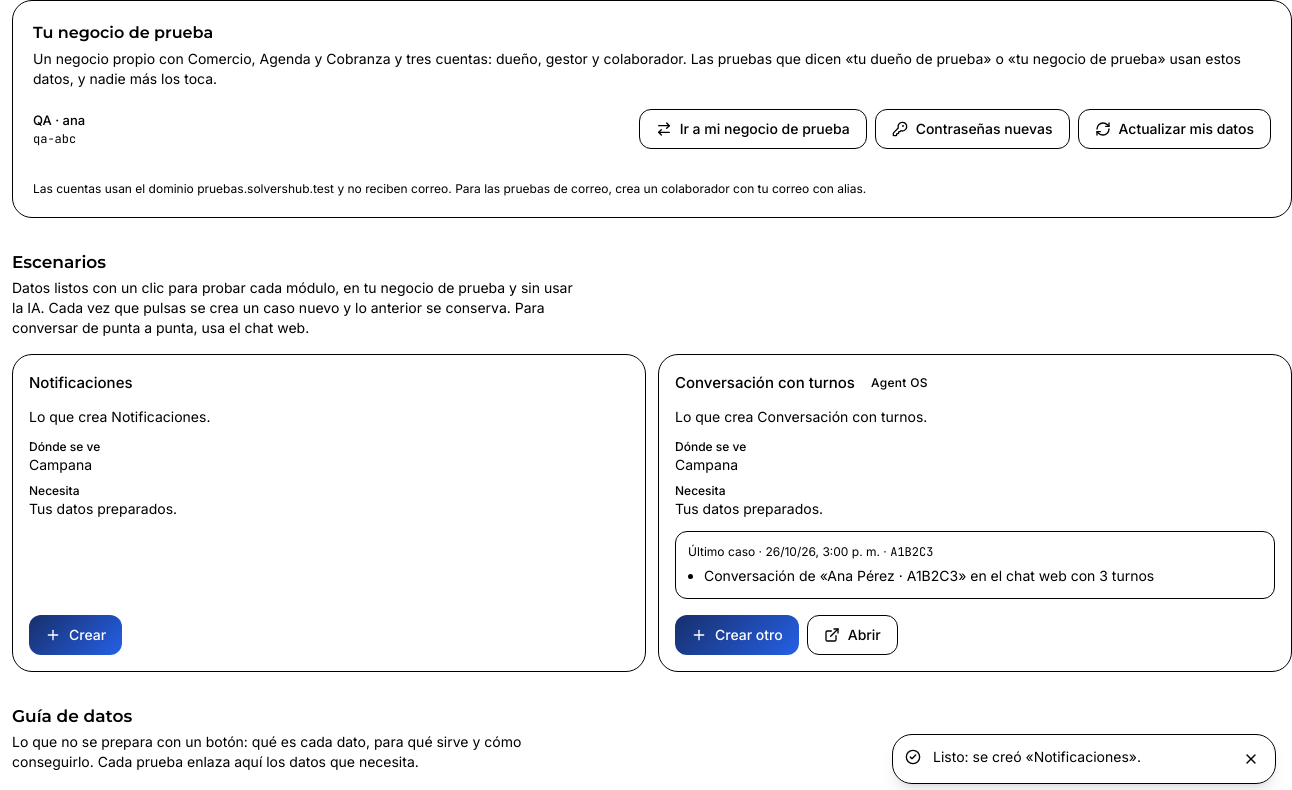
it: Escenarios de datos de prueba › un 409 muestra el motivo y no cambia la tarjeta
The width and height of the screenshot is (1292, 790).
What coordinates should you click on to do the following:
click the button "Crear otro"
I would click on:
 (737, 635)
Its box is [675,615,799,655].
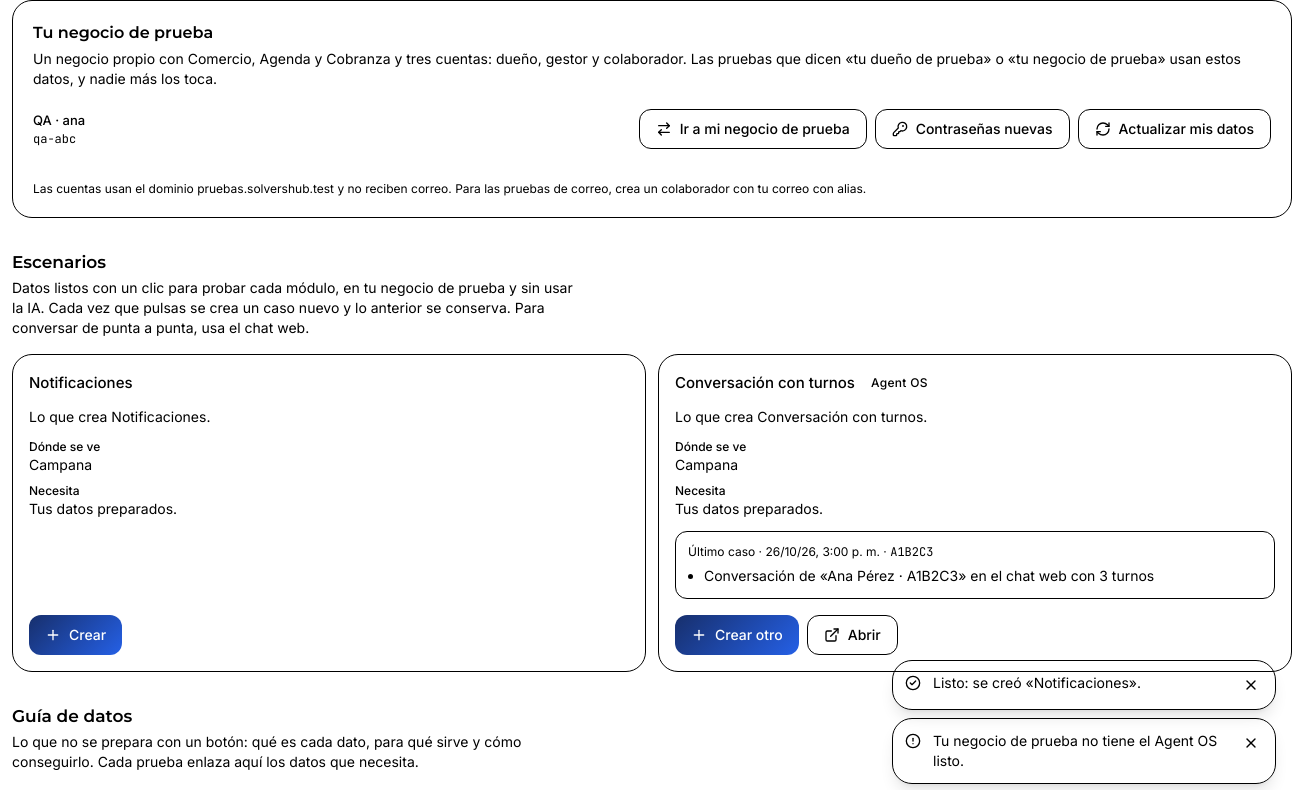
Expected: the text "A1B2C3" is shown, [890,544,933,560]
Expected: the text "Tu negocio de prueba no tiene el Agent OS listo." is shown, [933,731,1227,771]
